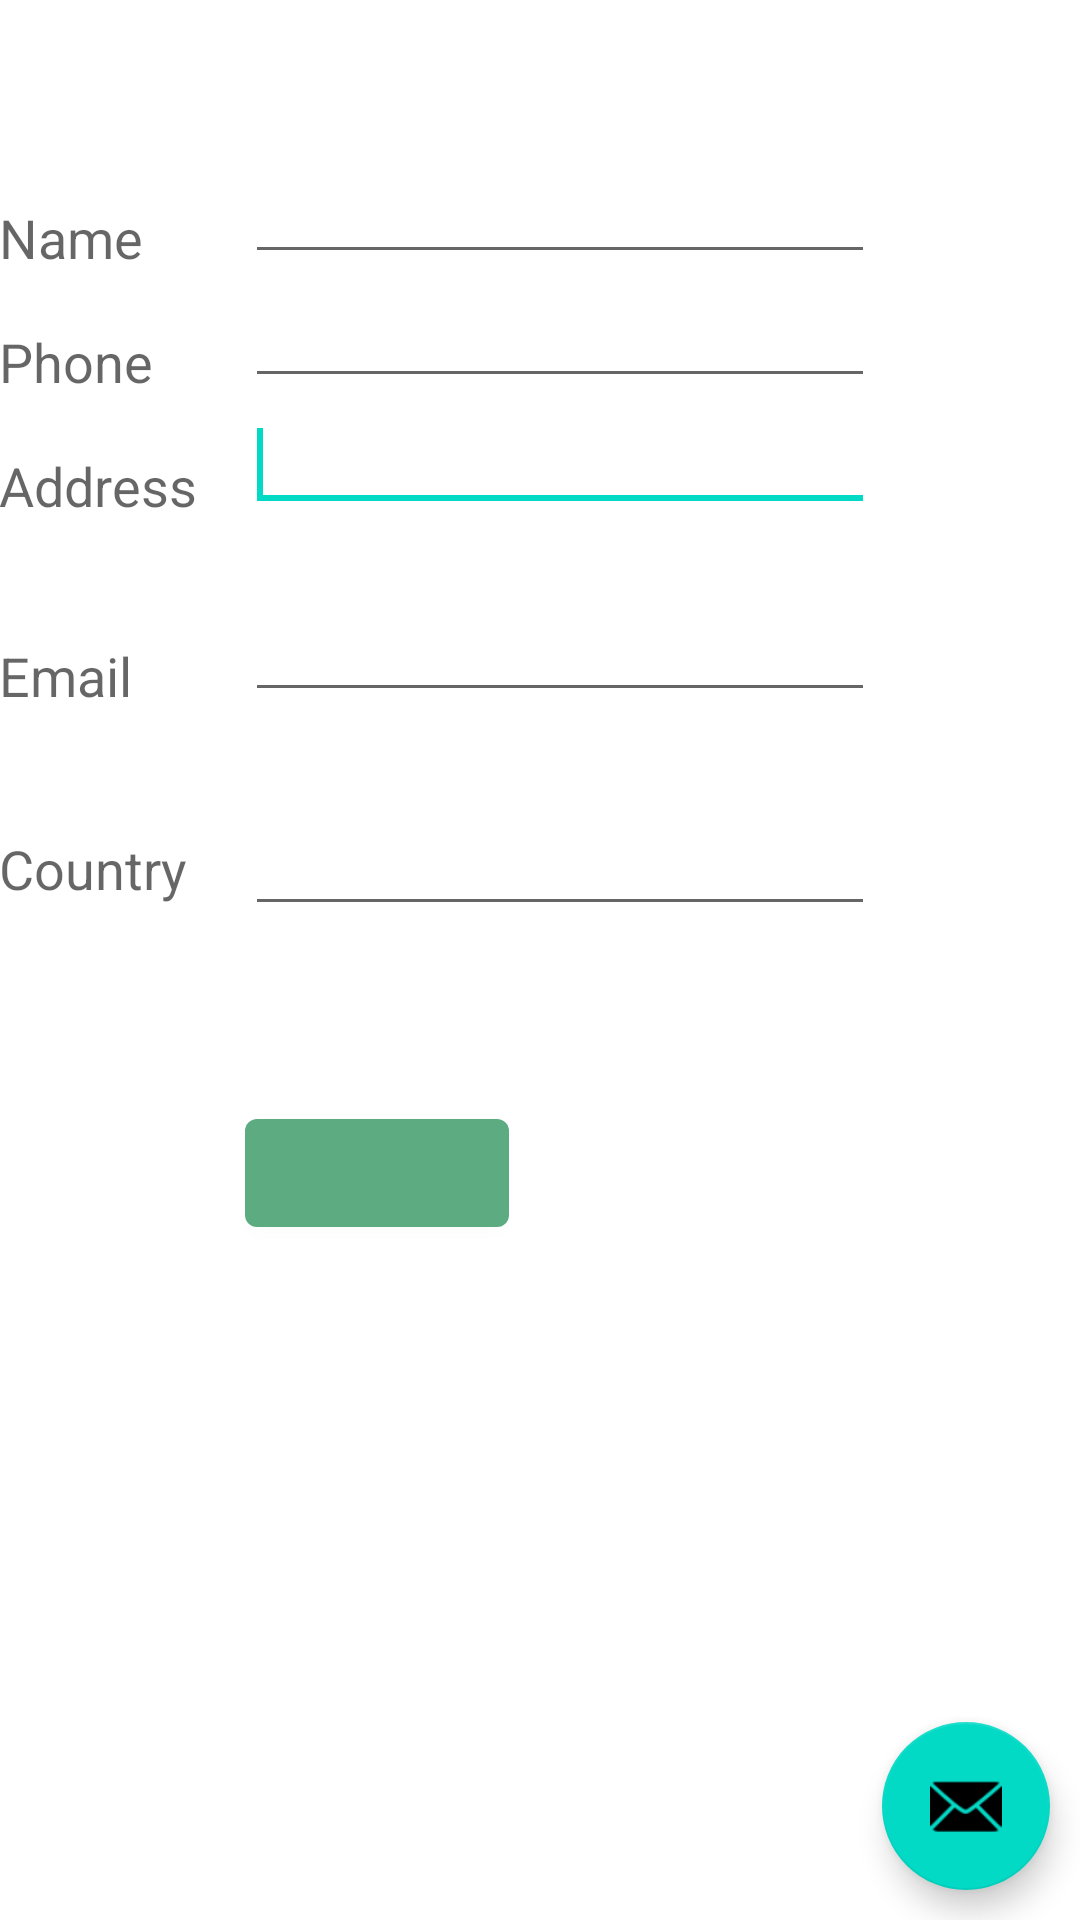

Screen size 1080w x 1920h. Icon name, then its box in pixels as [x1, y1, x2, y2]:
email: [882, 1722, 1050, 1890]
